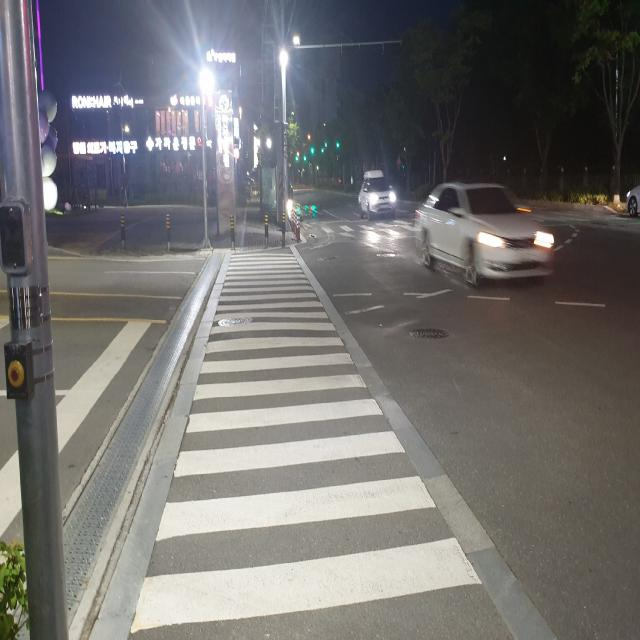횡단보도: (127, 243, 486, 640)
